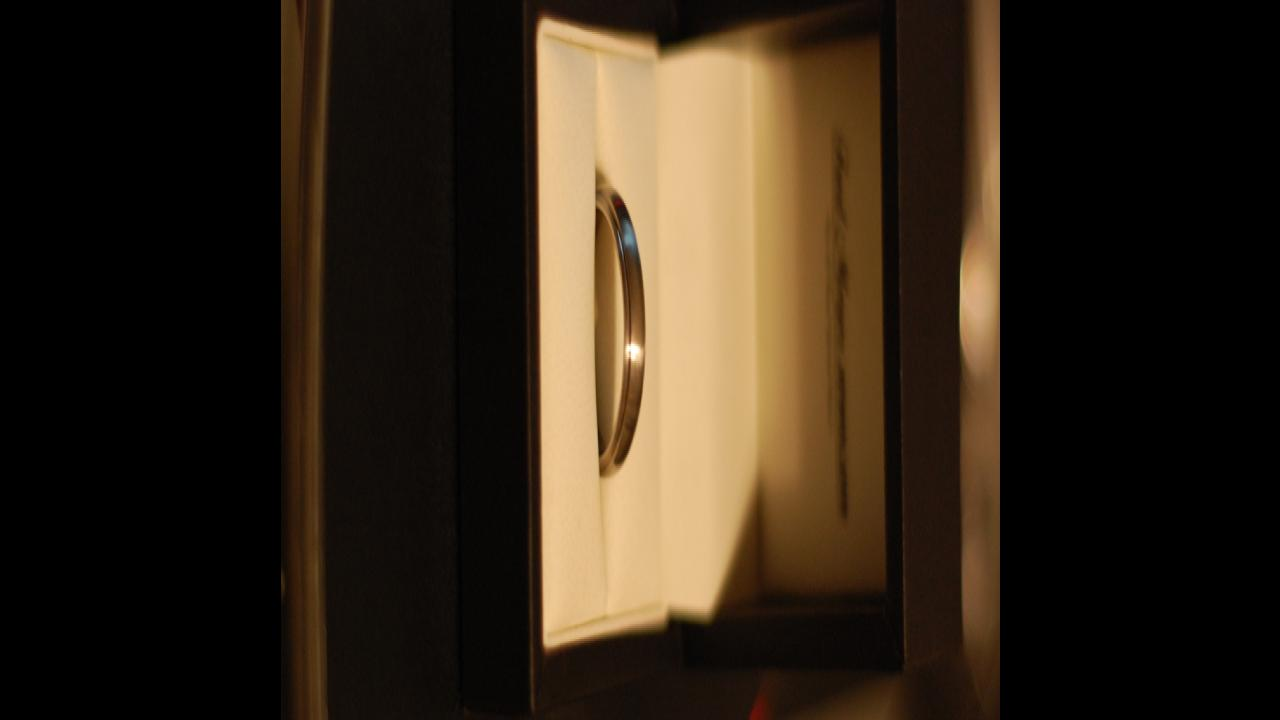ring: (586, 179, 650, 483)
